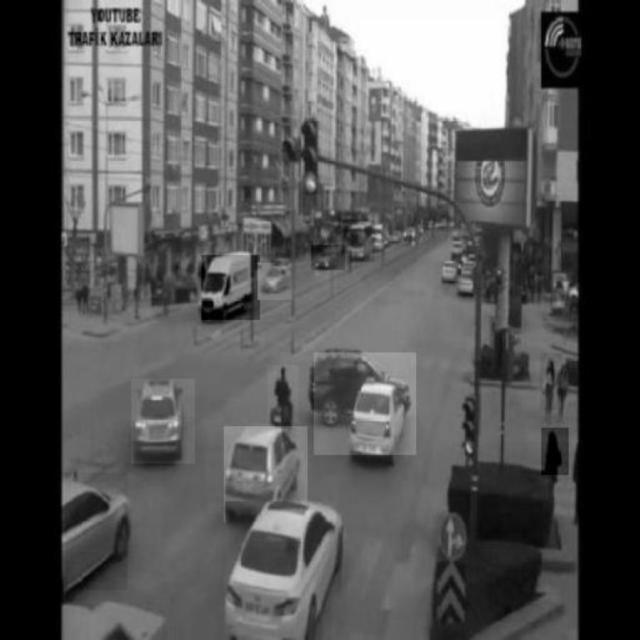accident: (314, 353, 416, 456)
person: (541, 428, 568, 475), (540, 353, 562, 410)
vehicle: (226, 501, 337, 639), (225, 427, 308, 523), (65, 472, 127, 590), (131, 379, 195, 463), (201, 255, 259, 319), (268, 366, 298, 423), (343, 220, 375, 262), (258, 263, 294, 300), (311, 245, 345, 271)
